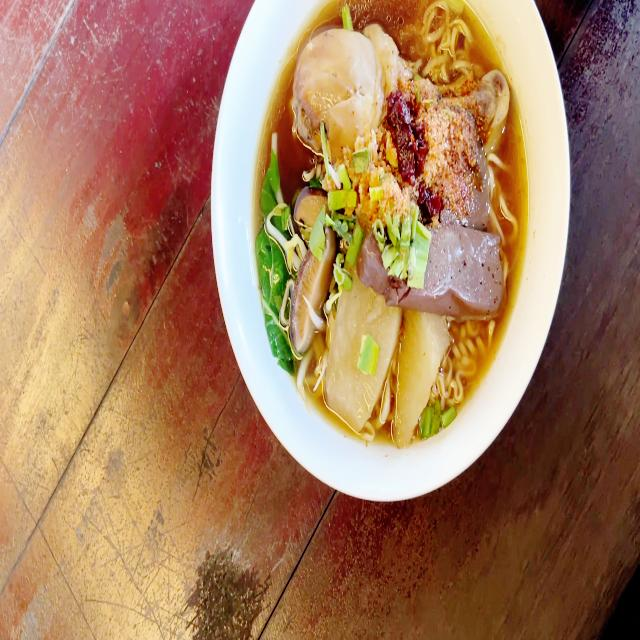boiled_chicken_blood_jelly: (425, 216, 506, 313), (466, 152, 490, 230)
chicken_drumstick: (291, 29, 515, 154)
daikon_radish: (333, 296, 443, 424)
noodle: (252, 3, 523, 426)
